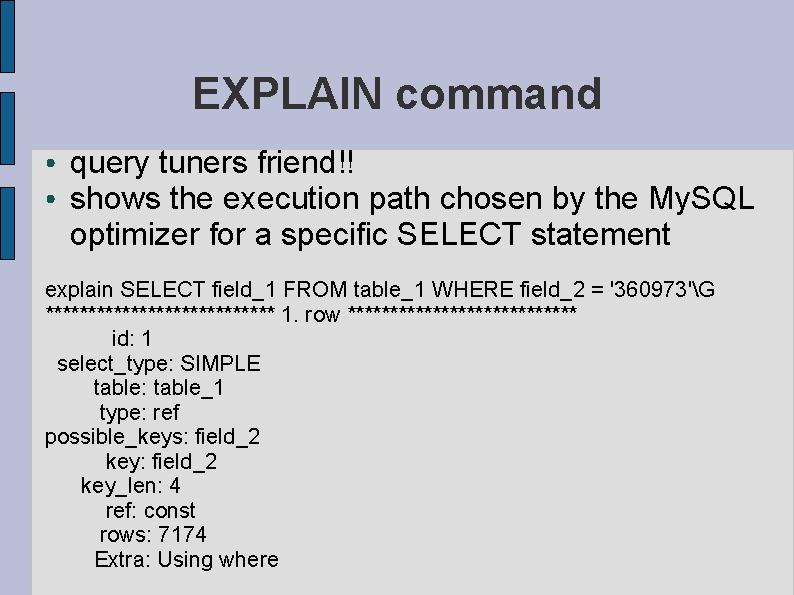paragraph: (38, 144, 759, 573)
title: (188, 58, 610, 122)
